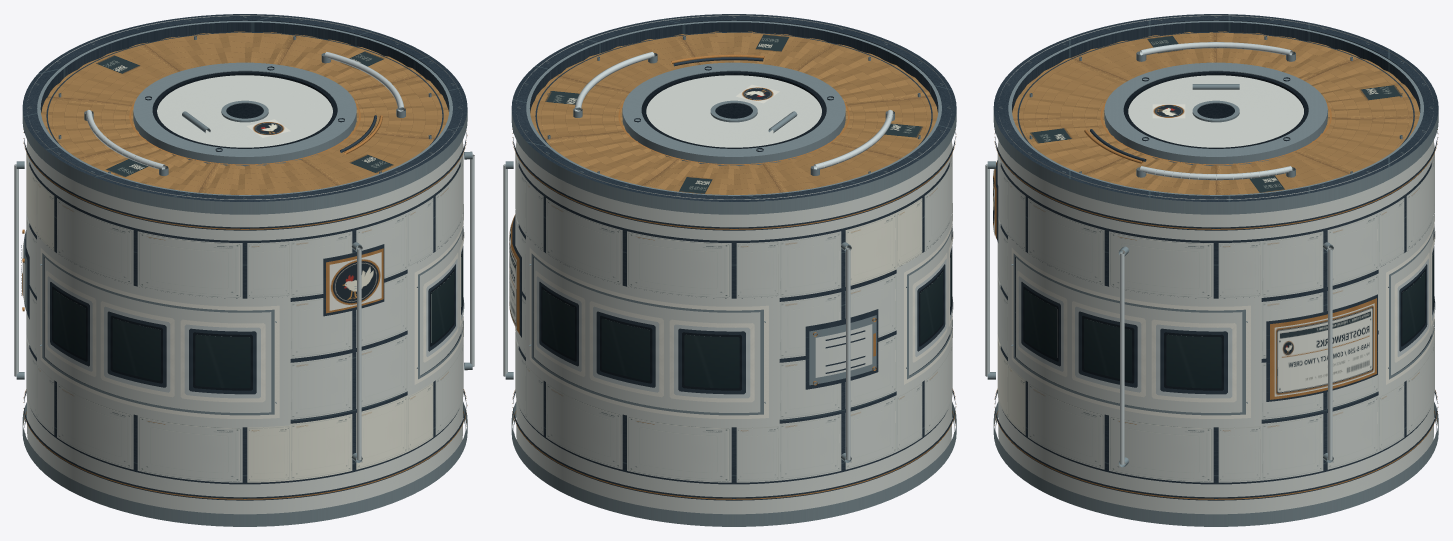
Rendered from RW_HABS_250.obj.
3 views of the same model, side by side, from view 1: azimuth 30°, elevation 25°; view 2: azimuth 150°, elevation 25°; view 3: azimuth 270°, elevation 25° (orthographic).
Parts seen in each view (by area): view 1: RW_Ceramic, RW_Cladding, RW_Hubblanket, RW_Graphite, RW_Steel, RW_CladdingWhite, RW_White, RW_Rail, RW_GlassBase, RW_Black, RW_Bronze, RW_Crest (+2 smaller); view 2: RW_Cladding, RW_Ceramic, RW_Hubblanket, RW_Graphite, RW_Steel, RW_White, RW_GlassBase, RW_Rail, RW_CladdingWhite, RW_Black, RW_Bronze, RW_Detail (+1 smaller); view 3: RW_Cladding, RW_Ceramic, RW_Hubblanket, RW_Graphite, RW_Steel, RW_Rail, RW_White, RW_GlassStandard, RW_Label, RW_Black, RW_Bronze, RW_Detail (+3 smaller).
Part boxes in pixels (left/top/right/bottom): RW_Ceramic: left=22, top=15, right=463, bottom=514; RW_Cladding: left=26, top=144, right=463, bottom=482; RW_Hubblanket: left=41, top=31, right=448, bottom=194; RW_Graphite: left=21, top=14, right=467, bottom=500; RW_Steel: left=16, top=16, right=472, bottom=526; RW_CladdingWhite: left=26, top=153, right=433, bottom=482; RW_White: left=40, top=210, right=464, bottom=418; RW_Rail: left=14, top=52, right=474, bottom=460; RW_GlassBase: left=53, top=289, right=250, bottom=388; RW_Black: left=52, top=71, right=463, bottom=390; RW_Bronze: left=22, top=100, right=467, bottom=499; RW_Crest: left=246, top=119, right=381, bottom=310; RW_Cladding: left=515, top=143, right=952, bottom=482; RW_Ceramic: left=516, top=15, right=952, bottom=514; RW_Hubblanket: left=530, top=31, right=937, bottom=194; RW_Graphite: left=511, top=14, right=956, bottom=500; RW_Steel: left=505, top=16, right=956, bottom=526; RW_White: left=529, top=211, right=953, bottom=418; RW_GlassBase: left=542, top=239, right=952, bottom=388; RW_Rail: left=503, top=52, right=953, bottom=460; RW_CladdingWhite: left=845, top=198, right=922, bottom=286; RW_Black: left=541, top=71, right=952, bottom=390; RW_Bronze: left=511, top=54, right=956, bottom=499; RW_Detail: left=544, top=34, right=923, bottom=193; RW_Cladding: left=997, top=143, right=1434, bottom=482; RW_Ceramic: left=998, top=15, right=1434, bottom=514; RW_Hubblanket: left=1012, top=31, right=1419, bottom=194; RW_Graphite: left=993, top=14, right=1438, bottom=500; RW_Steel: left=987, top=16, right=1438, bottom=526; RW_Rail: left=985, top=42, right=1435, bottom=464; RW_White: left=1011, top=211, right=1435, bottom=418; RW_GlassStandard: left=1024, top=289, right=1221, bottom=388; RW_Label: left=1274, top=303, right=1374, bottom=396; RW_Black: left=1023, top=71, right=1434, bottom=390; RW_Bronze: left=994, top=101, right=1438, bottom=499; RW_Detail: left=1029, top=35, right=1402, bottom=192.
Bounding box in the file's own units: 2.45 × 1.98 × 2.5.
14 materials, 14 textured.
